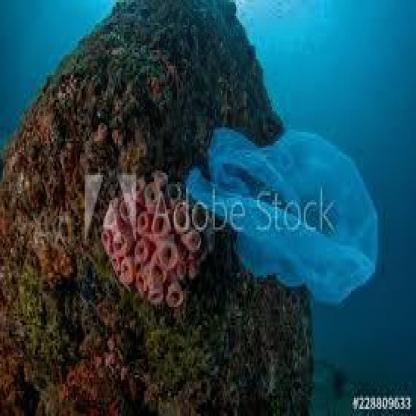pbag: (179, 116, 381, 316)
